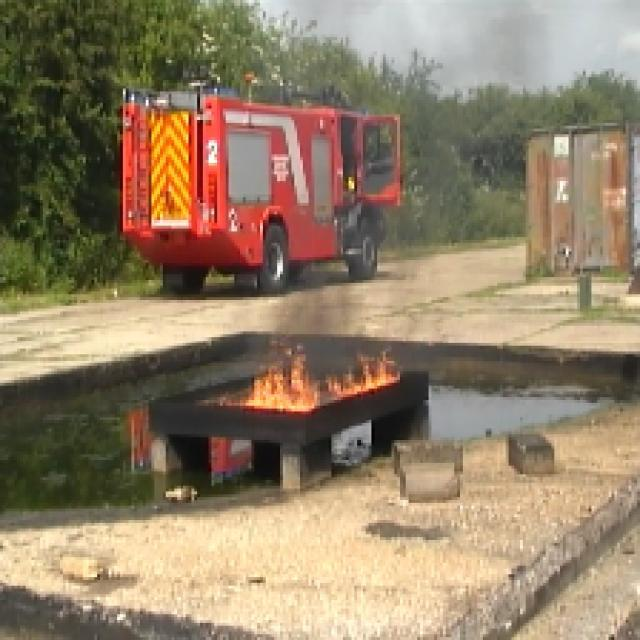Fire: (218, 354, 398, 408)
Smoke: (294, 264, 338, 336)
